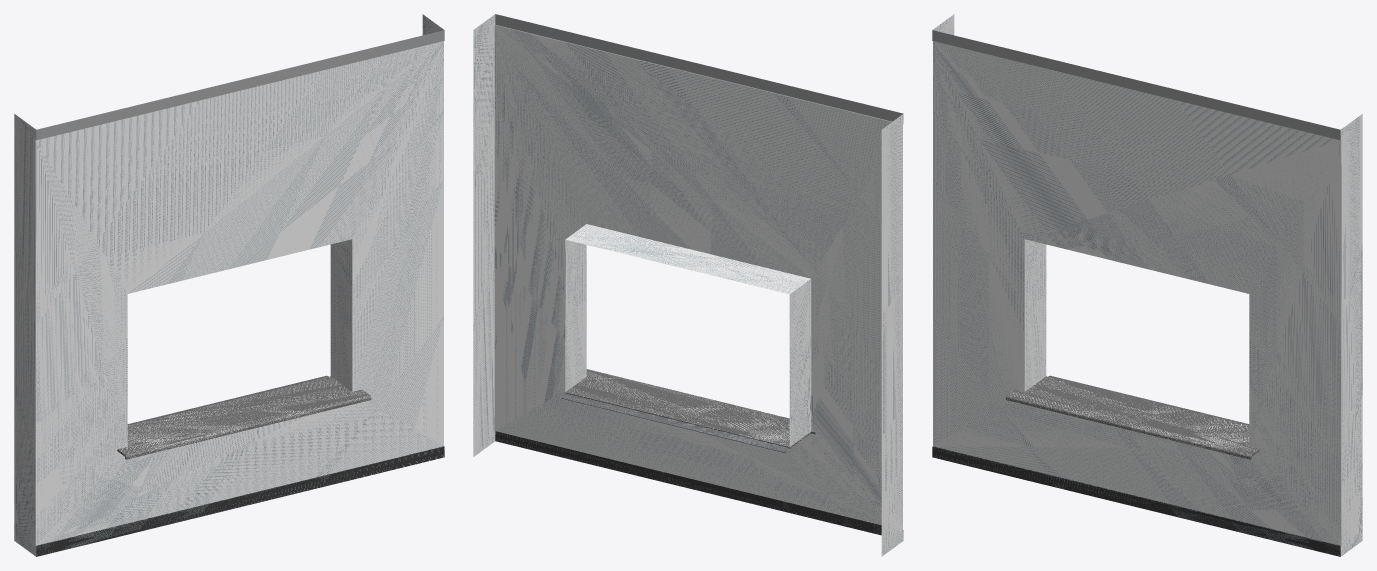
The model's file is WindowBlock_os_plinth_[400x400]_220x143x[080].dae.
The picture shows the model from 3 angles, left to right: view 1: azimuth 30°, elevation 25°; view 2: azimuth 150°, elevation 25°; view 3: azimuth 330°, elevation 25°; orthographic projection.
Parts seen in each view (by area): view 1: group_2 (×4), group_1; view 2: group_2 (×4), group_1 (×2); view 3: group_2 (×4), group_1.
Boxes of the visible parts, x1,y1,x2,y2 form: group_2 (×4): (14,14,444,556); group_1: (117,376,371,459); group_2 (×4): (473,14,903,556); group_1 (×2): (561,369,815,452); group_2 (×4): (932,14,1362,556); group_1: (1005,376,1258,459).
Size of the model in its own units: 157 by 23.03 by 157.
